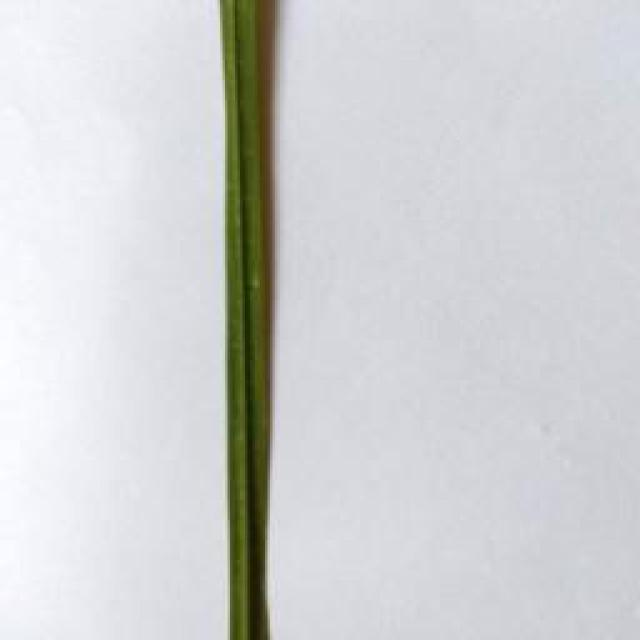Healthy-Plant: (220, 0, 272, 640)
